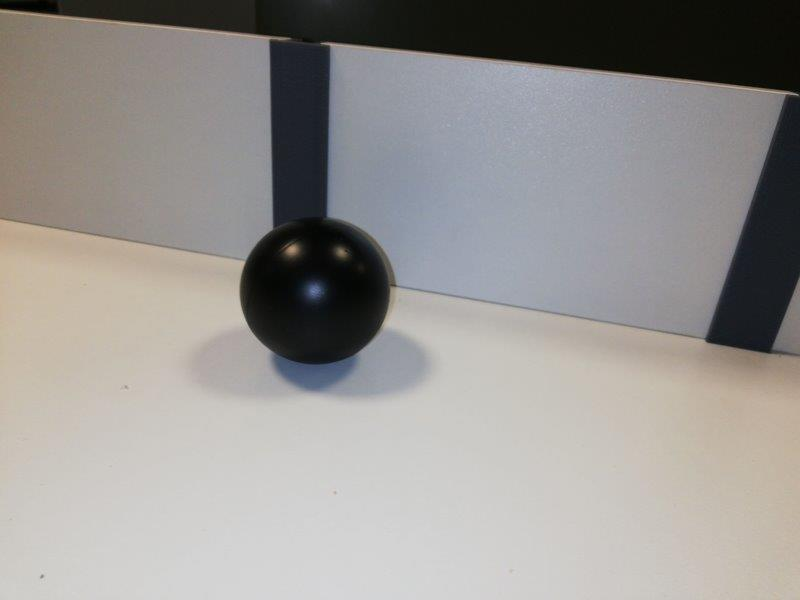nera: (241, 217, 391, 365)
